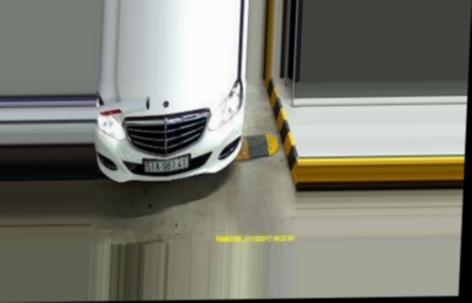License_Plate: (141, 156, 193, 175)
